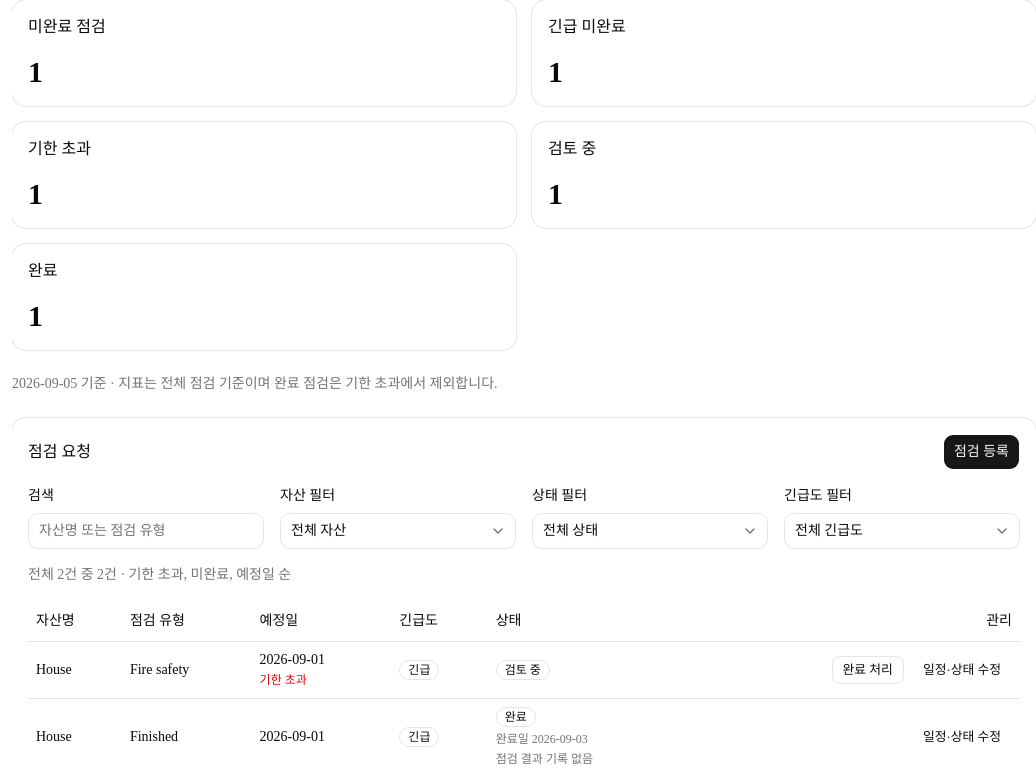
Test: filters overdue and urgent work and keeps completion out of overdue counts
Expected: the text "점검 결과 기록 없음" is shown, [496, 752, 593, 766]
Select "기한 초과" in the dropdown labelled "상태 필터" at (650, 531), box [532, 513, 768, 549]
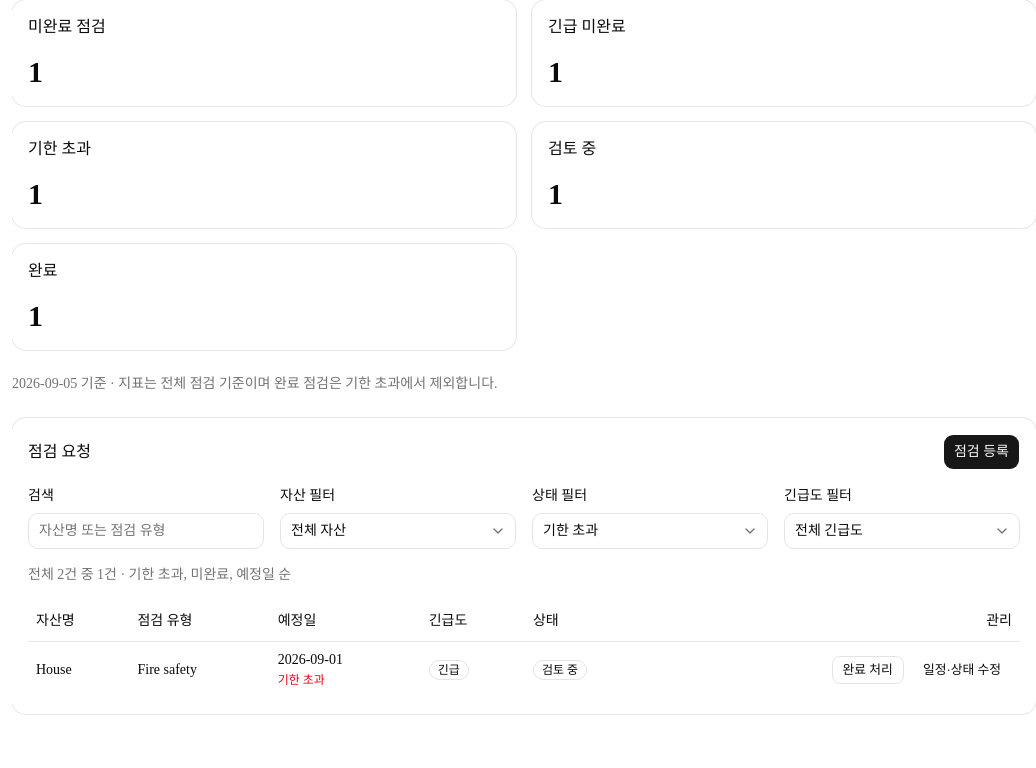
Expected: the text "Fire safety" is shown, [130, 641, 270, 698]
Select "일반" in the dropdown labelled "긴급도 필터" at (902, 531), box [784, 513, 1020, 549]
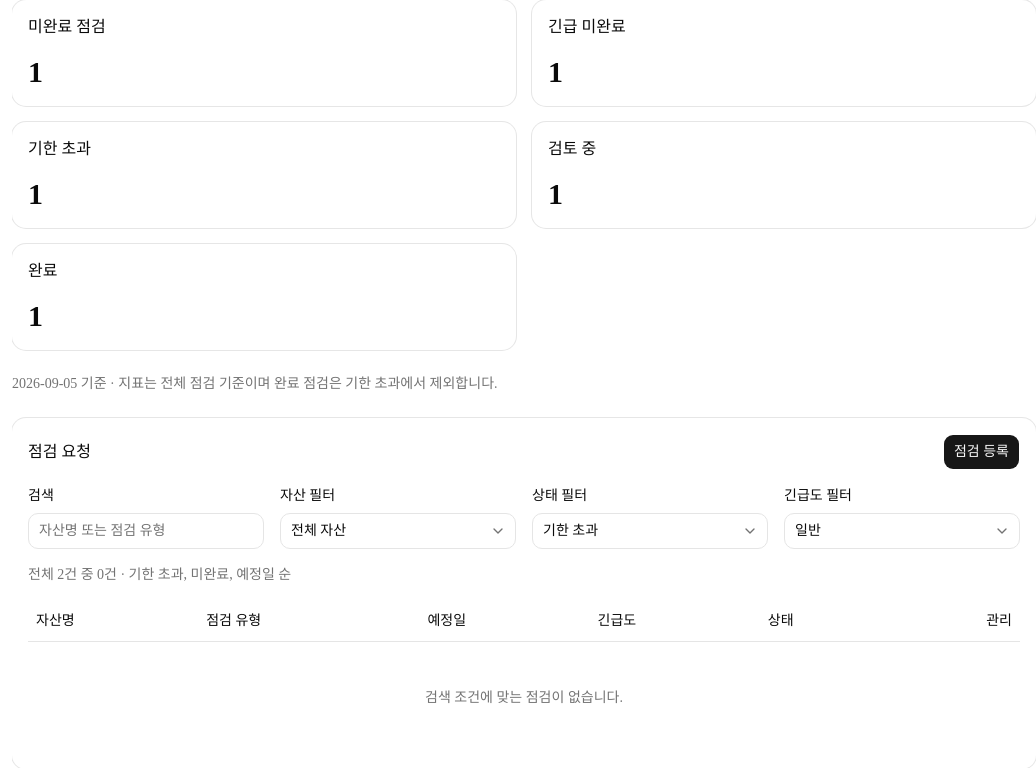
Result: the text "Fire safety" is gone
